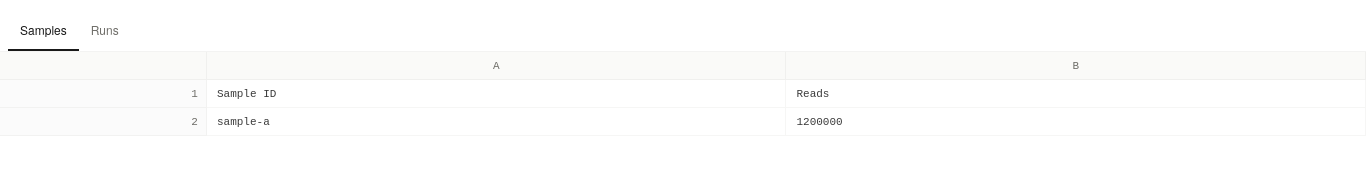
Test: WorkspaceSpreadsheetPreview › renders workbook cells and switches worksheets
expect the text "sample-a" is shown: met, box [217,116,270,128]
Click the tab "Runs".
click(105, 31)  # box [79,11,131,51]
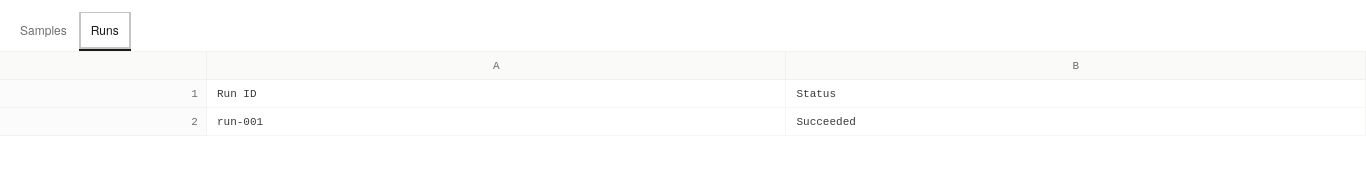
expect the text "run-001" is shown: met, box [217,116,263,128]
expect the text "sample-a" is gone: met
